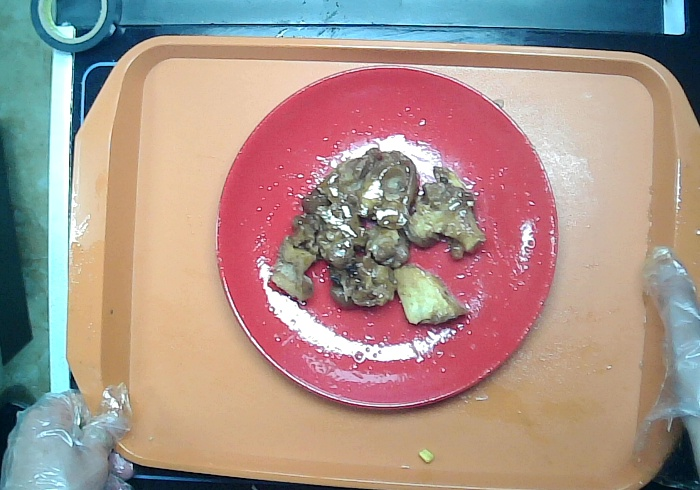HZYJPL-Hong_Se_Yuan_Pan: (210, 60, 562, 418)
